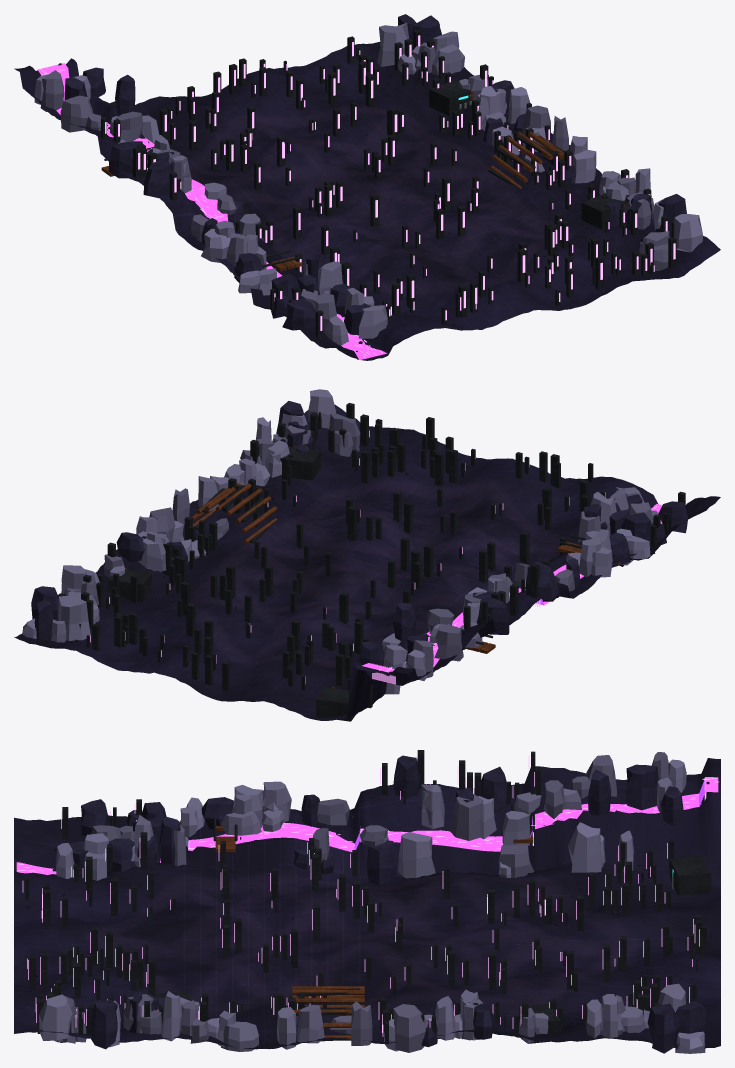
The model's file is world_4.glb.
3 views of the same model, one above another, from view 1: azimuth 30°, elevation 25°; view 2: azimuth 150°, elevation 25°; view 3: azimuth 270°, elevation 25° (orthographic). The views are drawn at different scales.
Visible parts, largest first — view 1: Terrain / sculpted relief.004, Cliffs / fractured strata.004, Flora / scattered miniatures.004, Ruins / abandoned machinery.004, Water / falls and currents.004; view 2: Terrain / sculpted relief.004, Cliffs / fractured strata.004, Flora / scattered miniatures.004, Ruins / abandoned machinery.004, Water / falls and currents.004; view 3: Terrain / sculpted relief.004, Cliffs / fractured strata.004, Flora / scattered miniatures.004, Ruins / abandoned machinery.004, Water / falls and currents.004.
Boxes of the visible parts, x1,y1,x2,y2 form: Terrain / sculpted relief.004: (14, 42, 720, 360); Cliffs / fractured strata.004: (34, 14, 702, 351); Flora / scattered miniatures.004: (101, 29, 676, 338); Ruins / abandoned machinery.004: (101, 79, 625, 274); Water / falls and currents.004: (37, 63, 386, 359); Terrain / sculpted relief.004: (14, 404, 720, 720); Cliffs / fractured strata.004: (22, 389, 688, 713); Flora / scattered miniatures.004: (57, 403, 685, 708); Ruins / abandoned machinery.004: (108, 446, 620, 721); Water / falls and currents.004: (362, 504, 662, 684); Terrain / sculpted relief.004: (14, 758, 720, 1049); Cliffs / fractured strata.004: (25, 752, 709, 1053); Flora / scattered miniatures.004: (22, 750, 706, 1044); Ruins / abandoned machinery.004: (154, 803, 711, 1043); Water / falls and currents.004: (16, 777, 718, 874).
Size of the model in its own units: 9.72 by 2.2 by 12.7.
11 materials, 5 textured.
